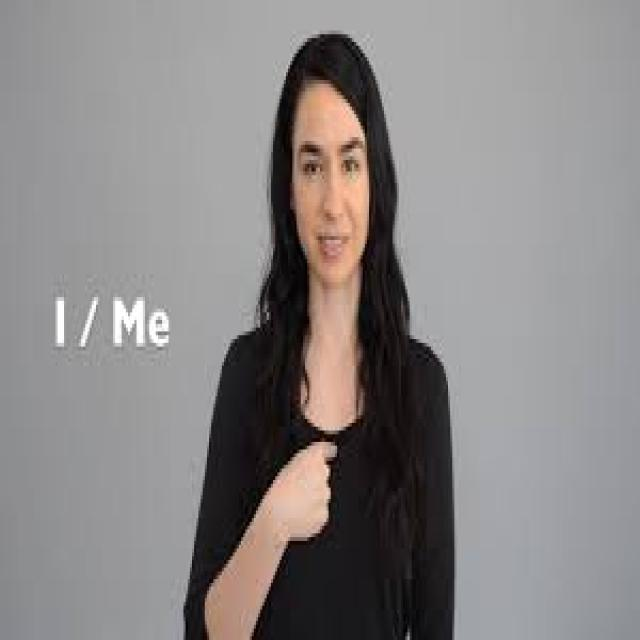i: (262, 430, 362, 555)
